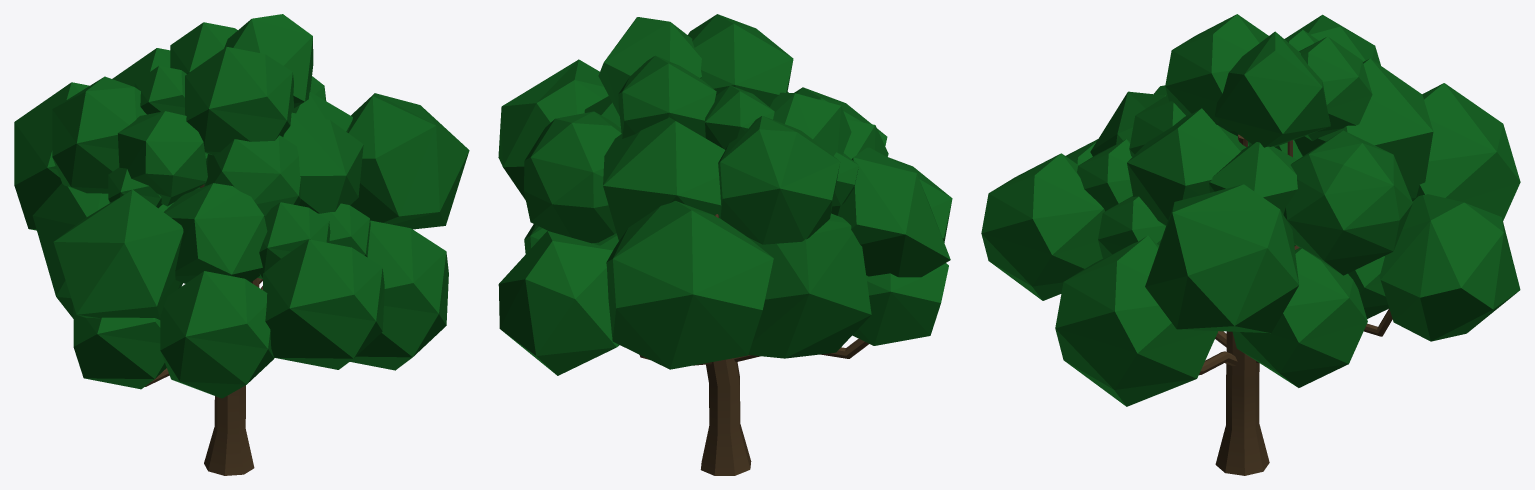
File: MahoganyTree.fbx
3 views of the same model, side by side, from view 1: azimuth 30°, elevation 25°; view 2: azimuth 150°, elevation 25°; view 3: azimuth 270°, elevation 25° (orthographic). The views are drawn at different scales.
Parts seen in each view (by area): view 1: MahoganyTree; view 2: MahoganyTree; view 3: MahoganyTree.
Part boxes in pixels (x1,y1,x2,y2): MahoganyTree: [14, 14, 469, 475]; MahoganyTree: [498, 14, 952, 475]; MahoganyTree: [981, 14, 1520, 475].
Bounding box in the file's own units: 235 × 237 × 255.
